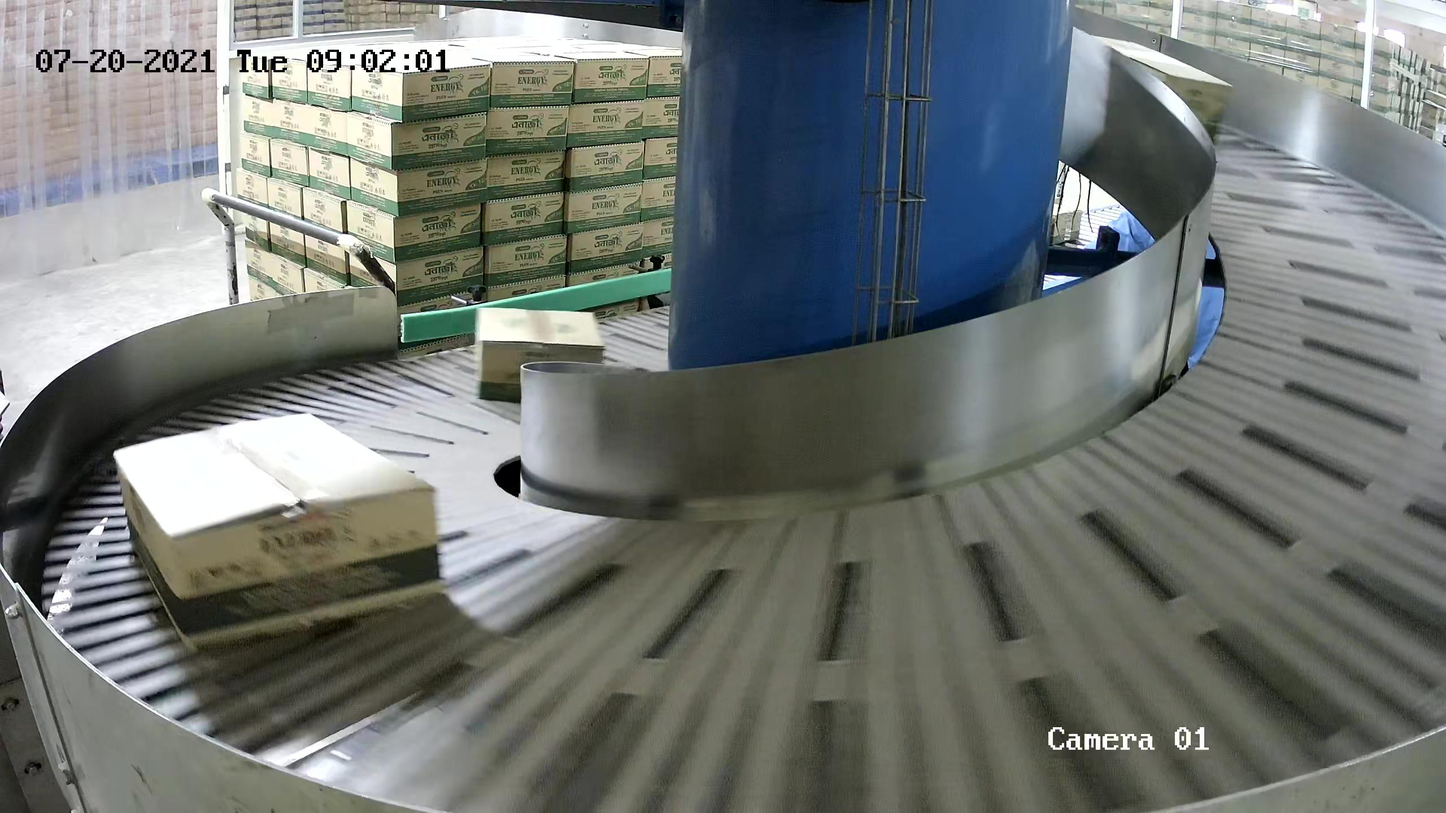Box: (111, 411, 448, 652), (476, 306, 608, 403)
